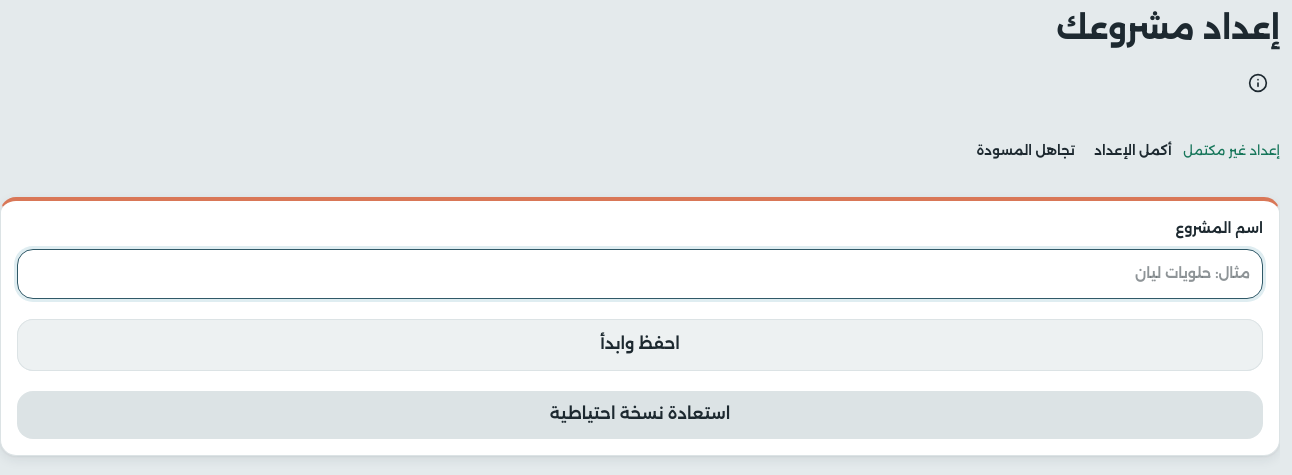
Test: UNIT-001 name draft — separate from the identity, explicit restore (R09/R10/DUP-023) › a legacy draft carrying financial fields offers the name only — money is never applied (Q02/DUP-023)
This screenshot has width=1292, height=475.
Expected: the message "إعداد غير مكتمل أكمل الإعداد تجاهل المسودة" is shown, [969,129,1280,173]
Click the button "أكمل الإعداد". click: point(1133, 151)
box: [1086,129,1180,173]
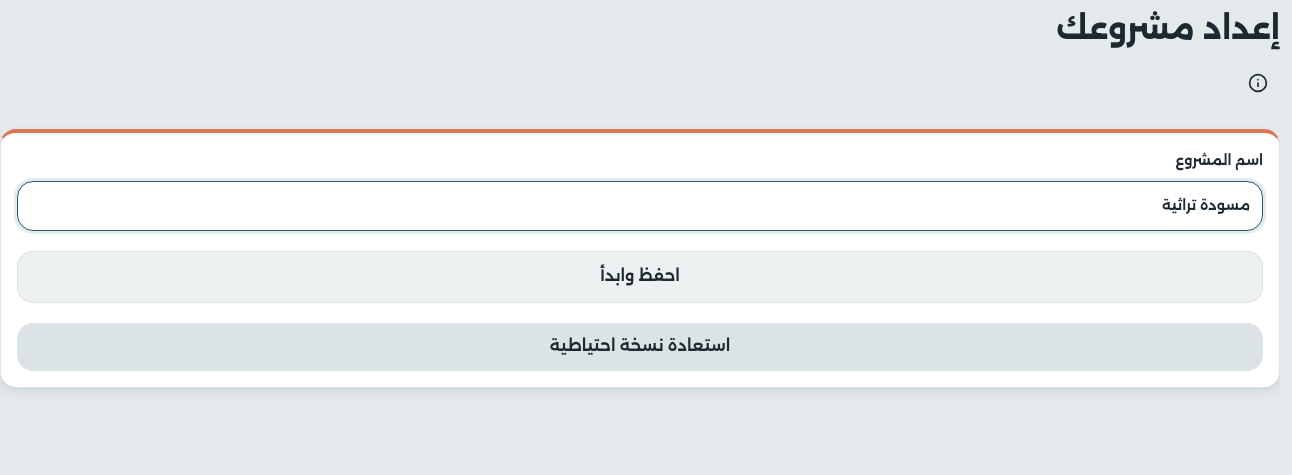
Result: the field labelled "اسم المشروع" holds "مسودة تراثية" at [17,181,1263,230]
